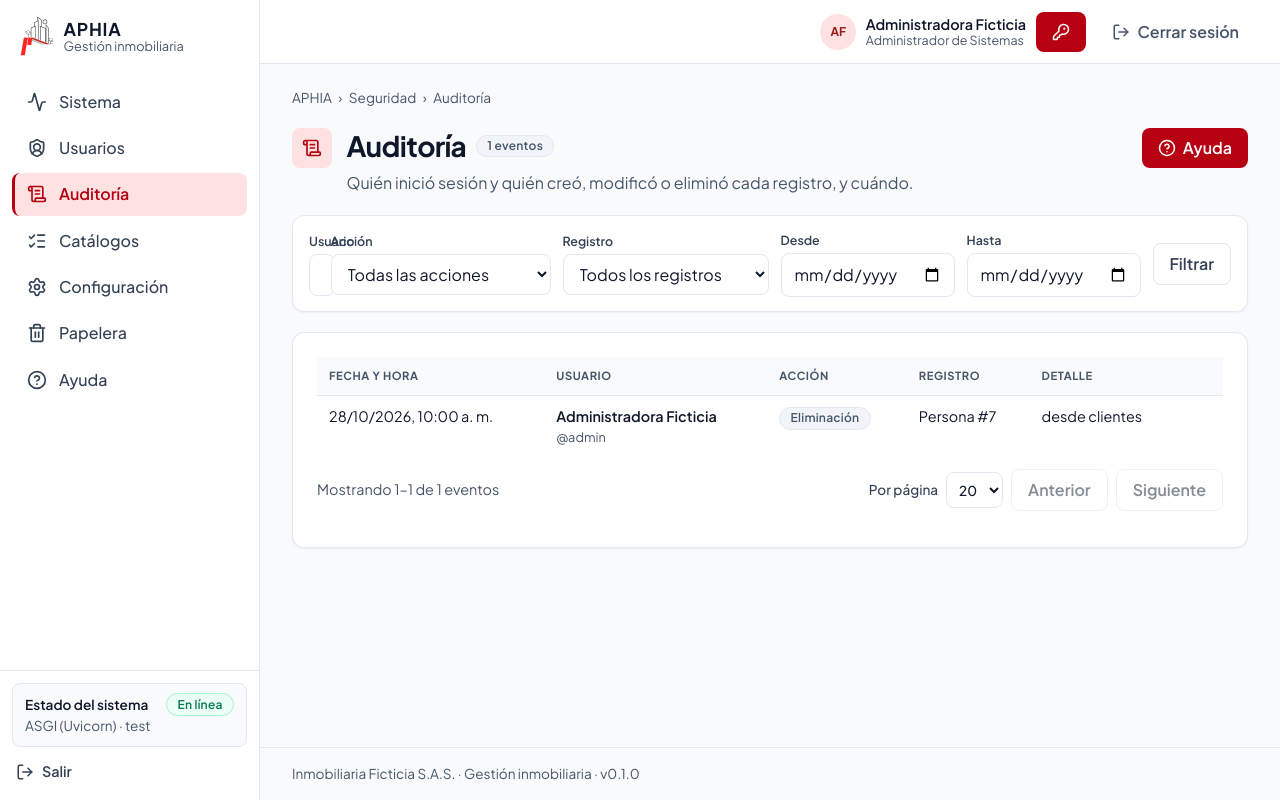
AuditoriaPage › lista los eventos con etiquetas y filtra por acción en la URL
expect the text "Eliminación" is shown: met, box [779, 407, 871, 430]
expect the text "Persona #7" is shown: met, box [907, 395, 1030, 457]
Select "Cuenta bloqueada" in the dropdown labelled "Acción" at (440, 275), box [330, 254, 550, 295]
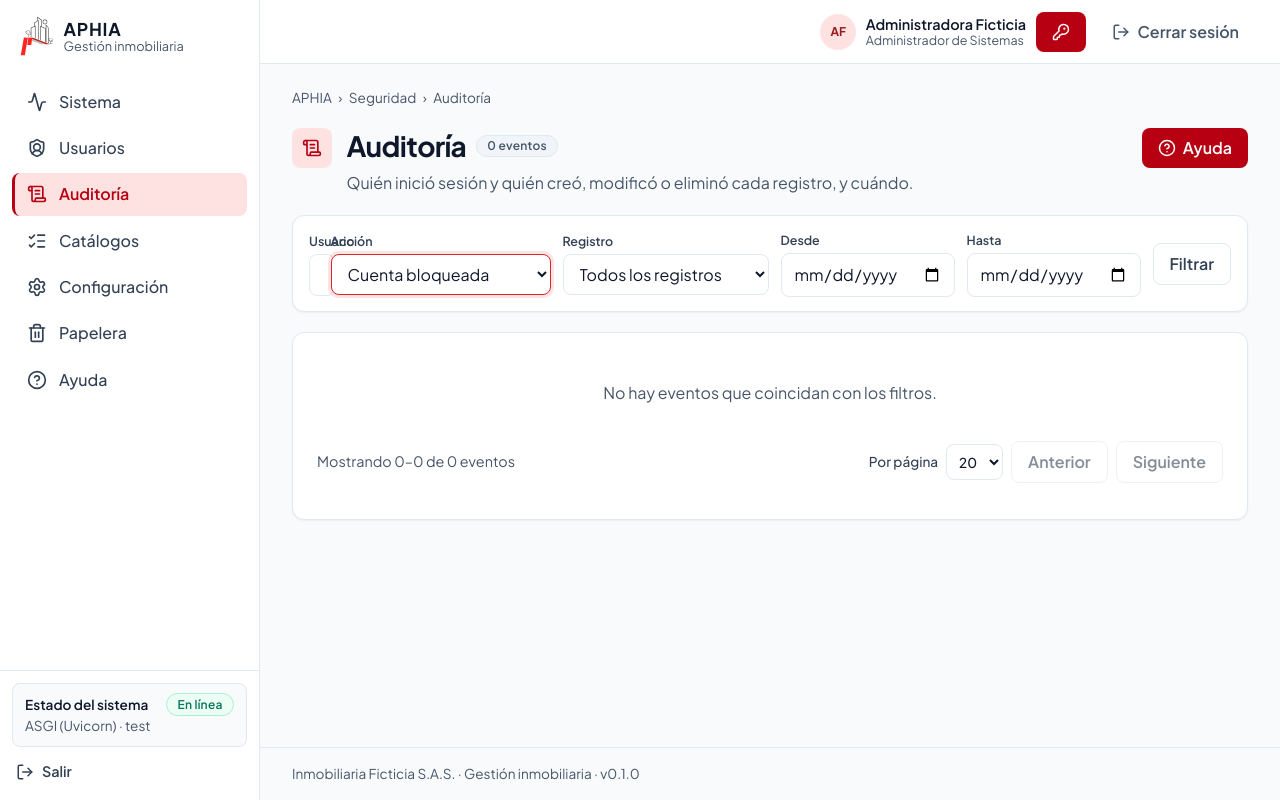
expect the text "No hay eventos que coincidan con los filtros." is shown: met, box [603, 382, 937, 403]
